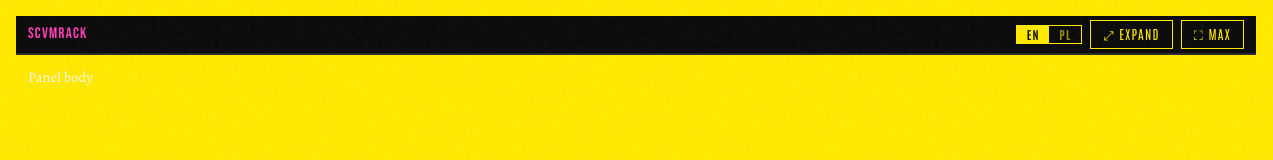
Test: ObrLayout › lets Owlbear users switch the iframe language
Check: the button "⤢ Expand" is shown, box 1090,20 -> 1173,49
Click the button with test id "language-pl". click: (1065, 34)
box: 1049,26 -> 1081,43
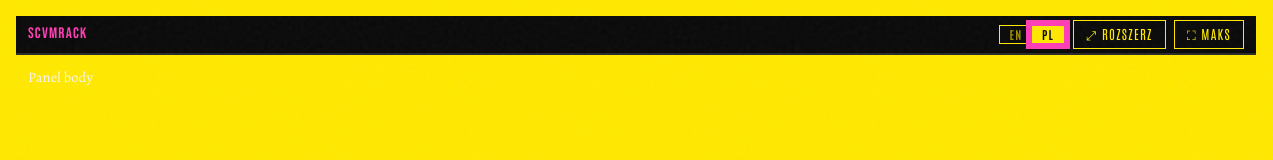
Check: the button "⤢ Rozszerz" is shown, box 1073,20 -> 1166,49
